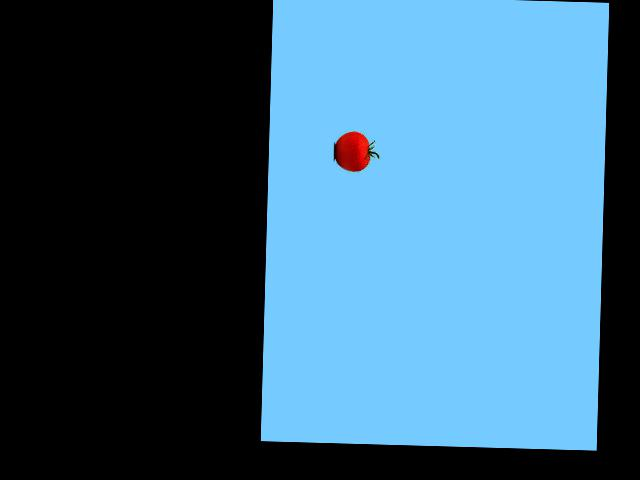tomato: (334, 130, 370, 171)
